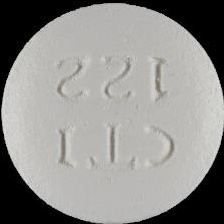50090-1432: (0, 0, 224, 224)
